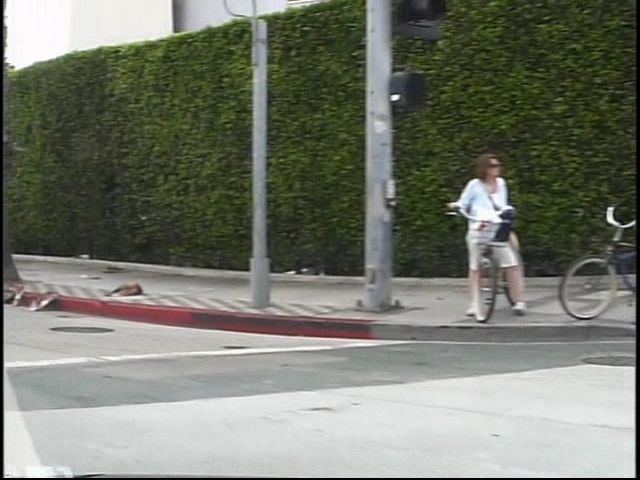person: (442, 152, 512, 327)
